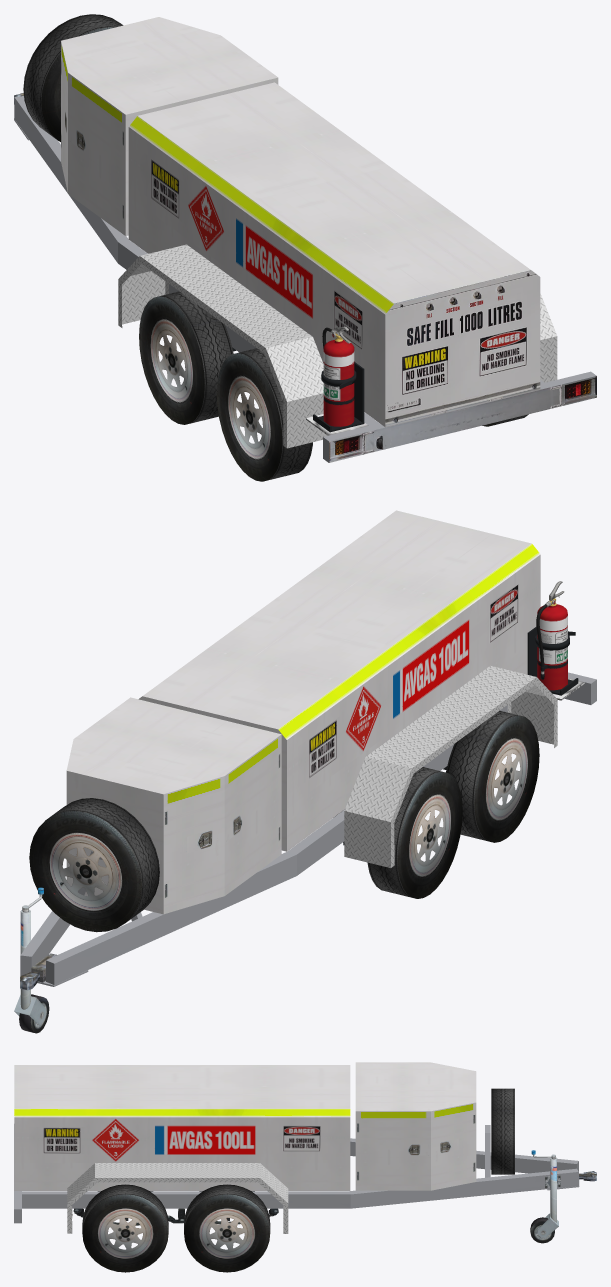
Rendered from fuel-trailer-5m-cbj_LOD01.gltf.
3 views of the same model, one above another, from view 1: azimuth 30°, elevation 25°; view 2: azimuth 150°, elevation 25°; view 3: azimuth 270°, elevation 25° (orthographic). The views are drawn at different scales.
Parts seen in each view (by area): view 1: fuel-trailer1-01; view 2: fuel-trailer1-01; view 3: fuel-trailer1-01.
Part boxes in pixels (left/top/right/bottom): fuel-trailer1-01: left=14, top=14, right=596, bottom=481; fuel-trailer1-01: left=14, top=510, right=596, bottom=1033; fuel-trailer1-01: left=14, top=1062, right=596, bottom=1272.
Bounding box in the file's own units: 1.82 × 1.43 × 5.21.
